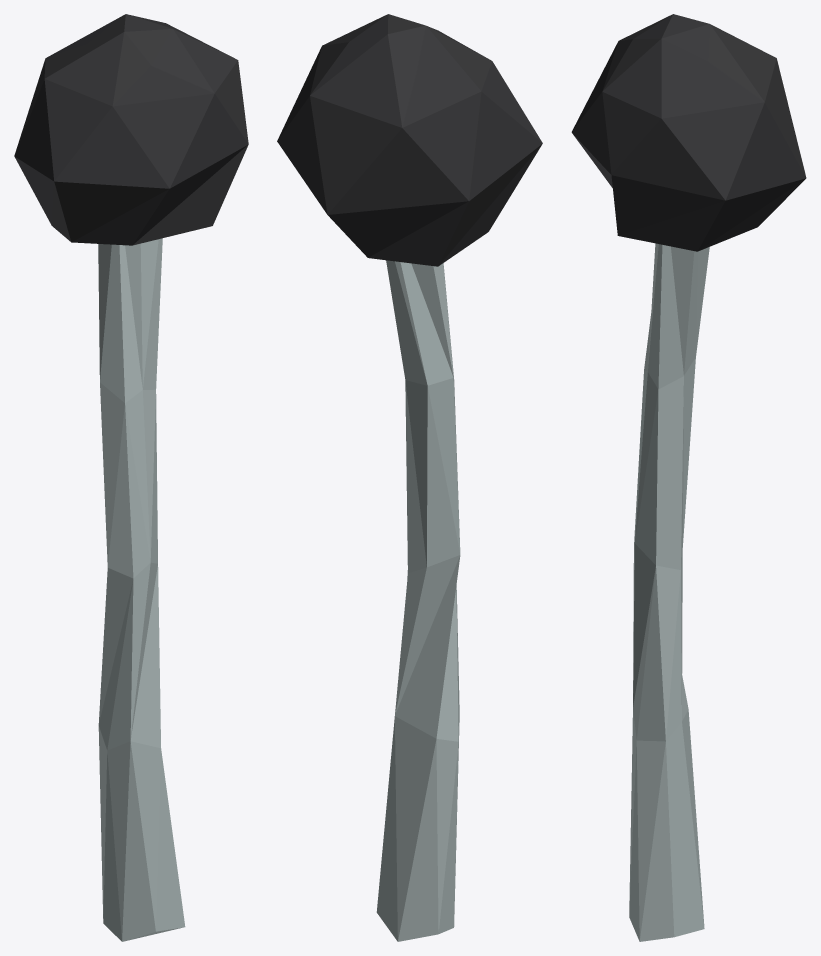
Rendered from SENE_NEEDAMA-005.FBX.
The picture shows the model from 3 angles, left to right: view 1: azimuth 30°, elevation 25°; view 2: azimuth 150°, elevation 25°; view 3: azimuth 270°, elevation 25°; orthographic projection.
Visible parts, largest first — view 1: SENE_NEEDAMA-005; view 2: SENE_NEEDAMA-005; view 3: SENE_NEEDAMA-005.
Part boxes in pixels (x1=…): SENE_NEEDAMA-005: x1=14, y1=14, x2=248, y2=941; SENE_NEEDAMA-005: x1=277, y1=14, x2=542, y2=941; SENE_NEEDAMA-005: x1=571, y1=14, x2=806, y2=941.
Bounding box in the file's own units: 213 × 854 × 200.
1 material, 1 textured.
